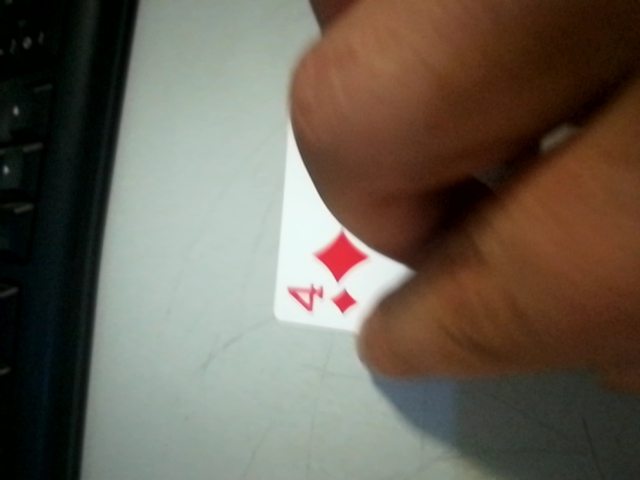fk 4: (278, 282, 372, 331)
